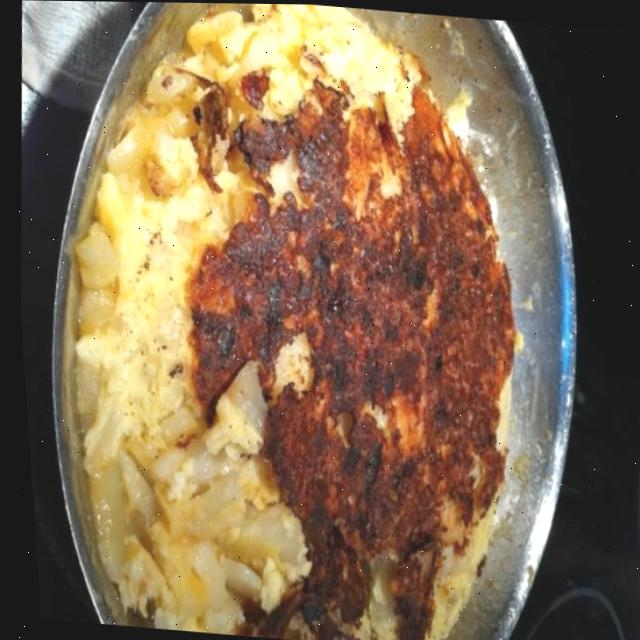面包点心: (29, 0, 566, 640)
